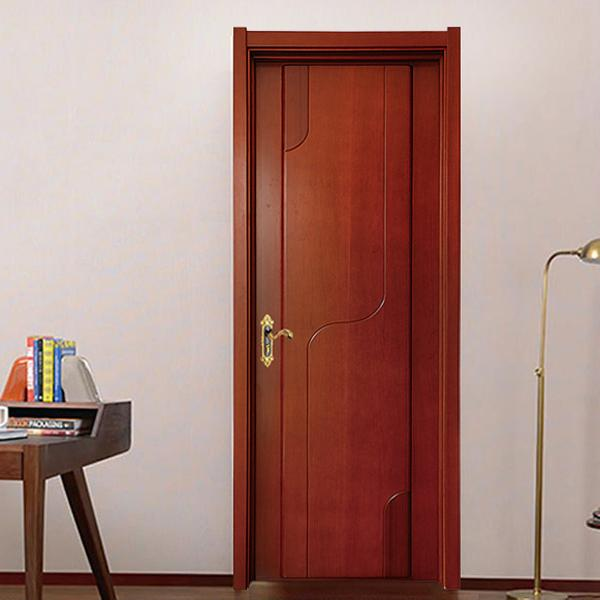door: (250, 59, 413, 581)
